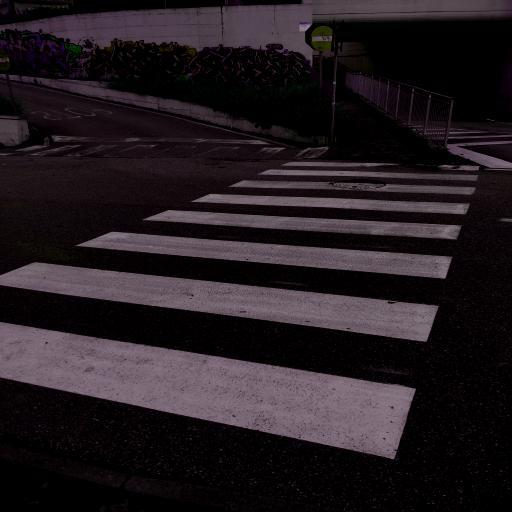crosswalk: (34, 206, 482, 282), (246, 158, 492, 188)
